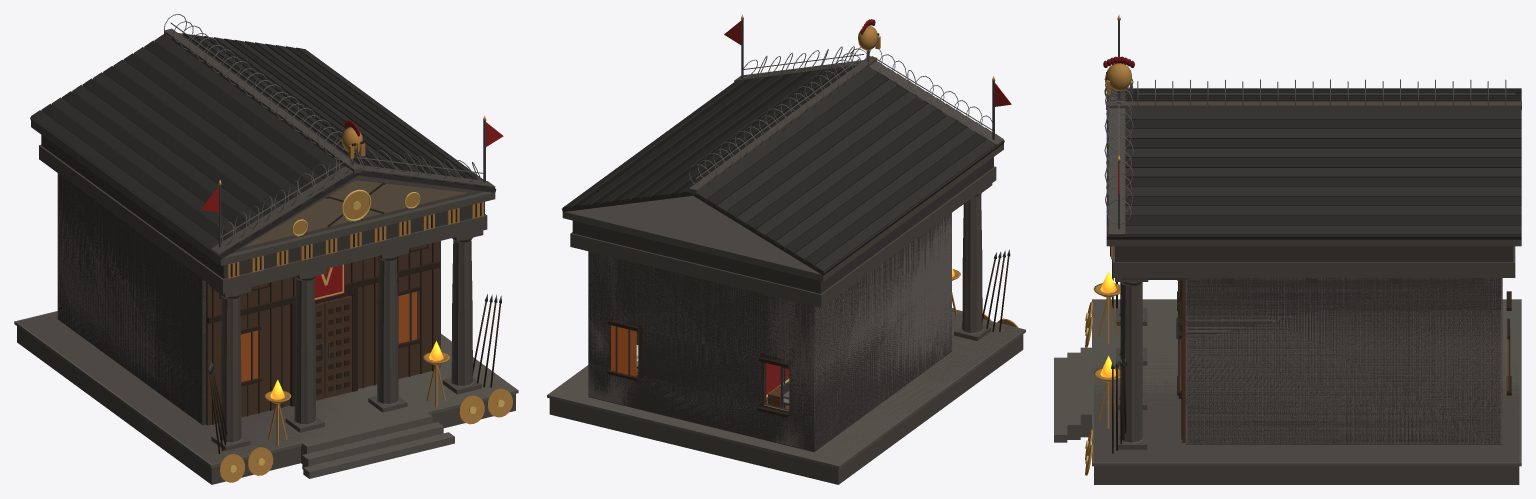
Rendered from ares_cabin.glb.
The picture shows the model from 3 angles, left to right: view 1: azimuth 30°, elevation 25°; view 2: azimuth 150°, elevation 25°; view 3: azimuth 270°, elevation 25°; orthographic projection. The views are drawn at different scales.
Parts seen in each view (by area): view 1: ARES_stone_mid, ARES_roof_a, ARES_dark_stone, ARES_roof_b, ARES_step, INT_stone, ARES_wood, ARES_wood_dark, ARES_bronze, ARES_wire, ARES_relief, DOOR_leaf_R (+5 smaller); view 2: ARES_dark_stone, ARES_stone_mid, INT_stone, ARES_roof_a, ARES_roof_b, ARES_step, ARES_wire, ARES_wood_dark, ARES_window_glow, INT_beam, ARES_iron, ARES_bronze; view 3: ARES_dark_stone, INT_stone, ARES_stone_mid, ARES_roof_a, ARES_roof_b, ARES_step, ARES_wire, ARES_bronze, ARES_wood_dark, ARES_wood, ARES_iron.
Boxes of the visible parts, x1,y1,x2,y2 form: ARES_stone_mid: [17, 28, 515, 484]; ARES_roof_a: [30, 33, 496, 259]; ARES_dark_stone: [41, 135, 484, 425]; ARES_roof_b: [41, 33, 484, 249]; ARES_step: [14, 311, 518, 478]; INT_stone: [57, 173, 440, 424]; ARES_wood: [206, 241, 438, 425]; ARES_wood_dark: [207, 141, 501, 453]; ARES_bronze: [219, 127, 512, 482]; ARES_wire: [164, 14, 483, 244]; ARES_relief: [243, 180, 467, 247]; DOOR_leaf_R: [323, 295, 352, 398]; ARES_dark_stone: [572, 157, 993, 452]; ARES_stone_mid: [549, 56, 1023, 484]; INT_stone: [588, 213, 951, 449]; ARES_roof_a: [562, 61, 1004, 275]; ARES_roof_b: [572, 66, 991, 265]; ARES_step: [547, 308, 1025, 468]; ARES_wire: [689, 46, 992, 187]; ARES_wood_dark: [607, 33, 1009, 417]; ARES_window_glow: [611, 325, 636, 376]; INT_beam: [609, 293, 792, 414]; ARES_iron: [615, 19, 1010, 375]; ARES_bronze: [858, 25, 1018, 327]; ARES_dark_stone: [1115, 246, 1513, 444]; INT_stone: [1185, 278, 1502, 443]; ARES_stone_mid: [1094, 88, 1521, 484]; ARES_roof_a: [1106, 88, 1521, 239]; ARES_roof_b: [1106, 89, 1521, 225]; ARES_step: [1054, 299, 1521, 466]; ARES_wire: [1104, 78, 1515, 224]; ARES_bronze: [1085, 63, 1131, 475]; ARES_wood_dark: [1106, 72, 1511, 453]; ARES_wood: [1179, 280, 1185, 442]; ARES_iron: [1111, 20, 1510, 387].
Size of what is drawn, in the model's own units: 9.3 by 9.2 by 11.22.
